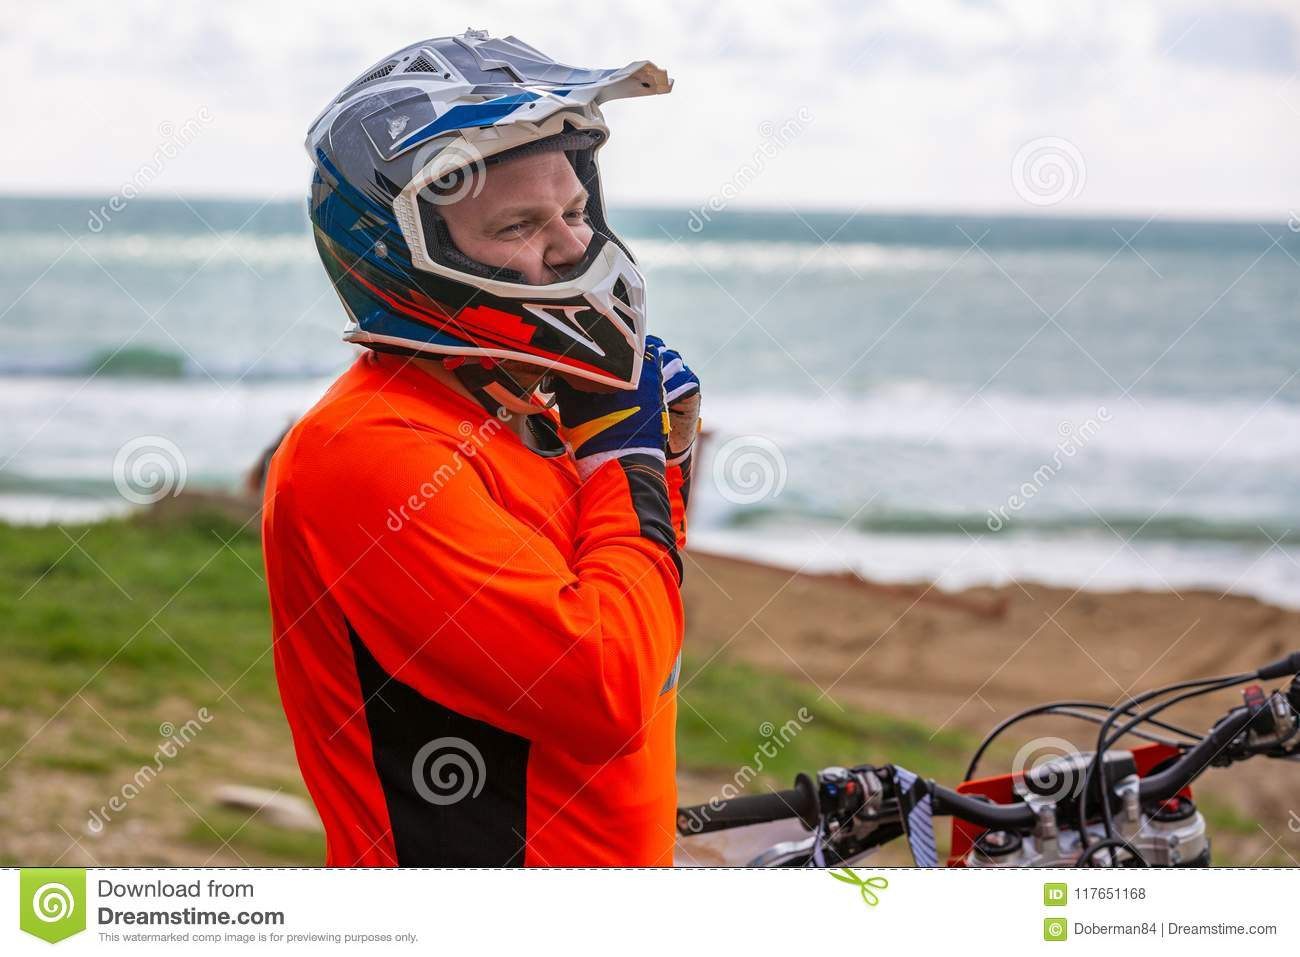helmet: (304, 48, 679, 395)
